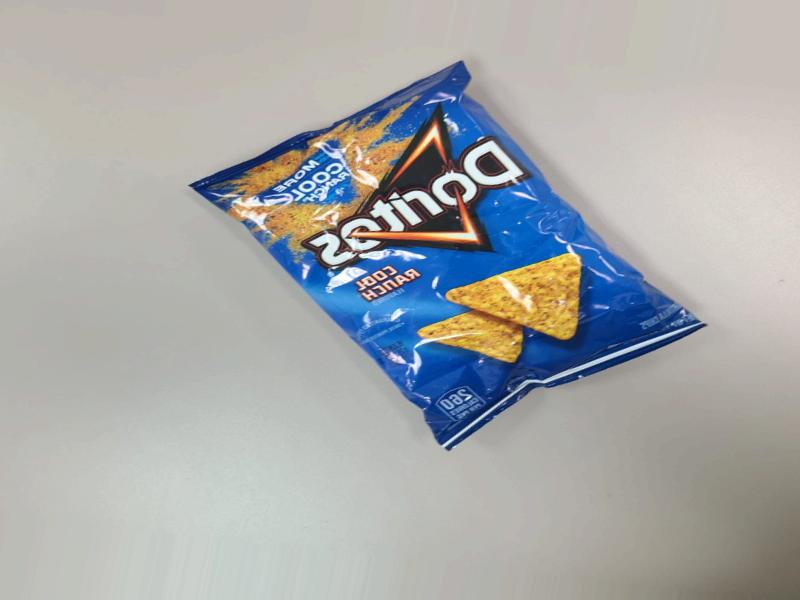doritos: (249, 109, 717, 438)
